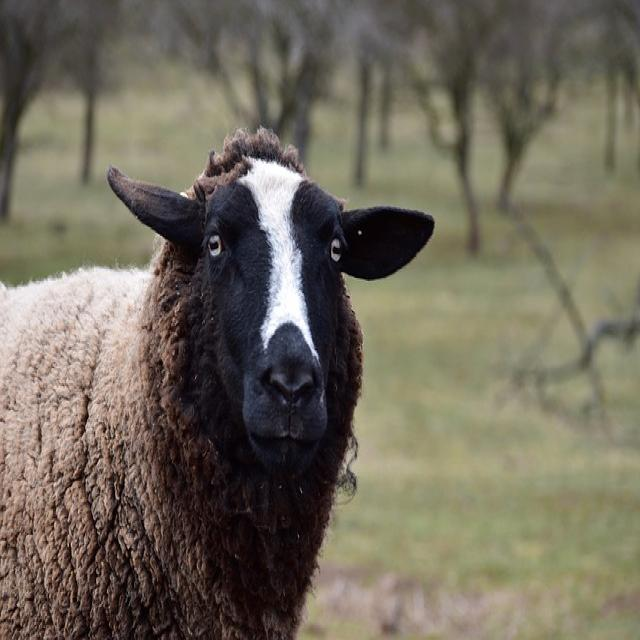goat: (0, 128, 436, 640)
